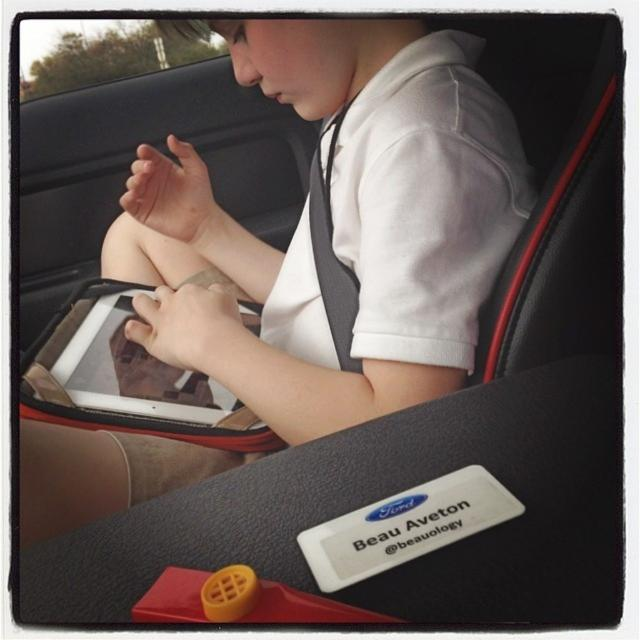Seatbelt: (302, 136, 362, 374), (310, 145, 364, 377)
